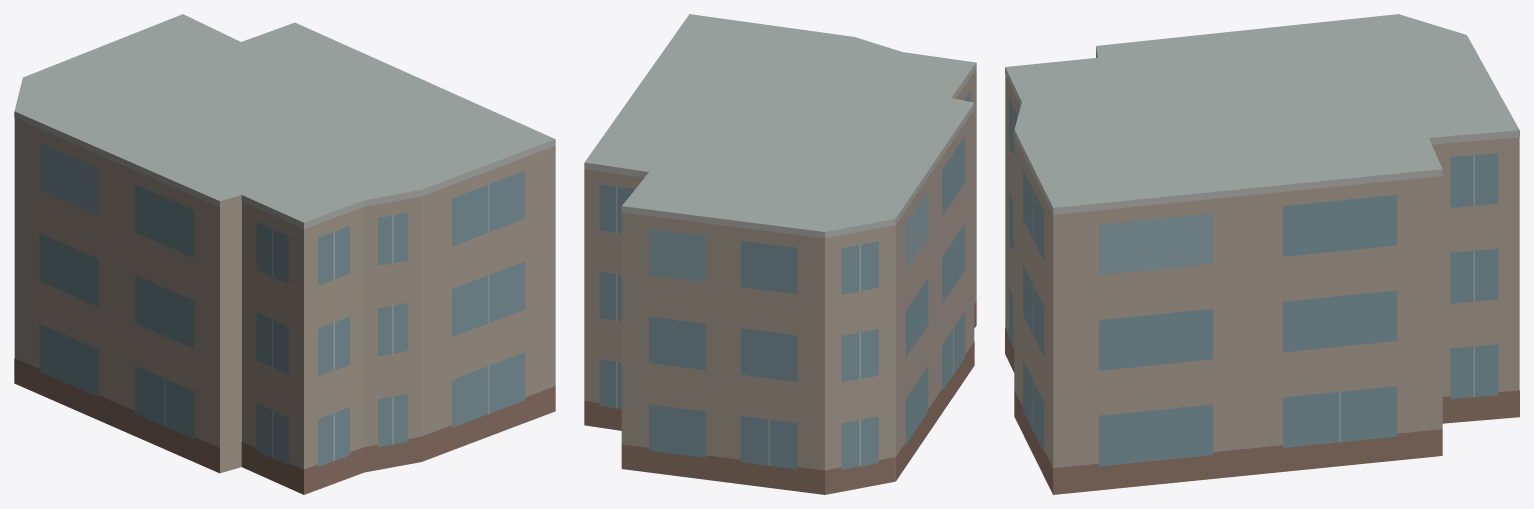
File: survey-upis-32909979.glb
The picture shows the model from 3 angles, left to right: view 1: azimuth 30°, elevation 25°; view 2: azimuth 150°, elevation 25°; view 3: azimuth 270°, elevation 25°; orthographic projection. The views are drawn at different scales.
Parts seen in each view (by area): view 1: survey-upis-32909979.tmp; view 2: survey-upis-32909979.tmp; view 3: survey-upis-32909979.tmp.
Part boxes in pixels (x1=…): survey-upis-32909979.tmp: x1=14, y1=14, x2=555, y2=494; survey-upis-32909979.tmp: x1=584, y1=14, x2=976, y2=494; survey-upis-32909979.tmp: x1=1005, y1=14, x2=1519, y2=494.
Size of the model in its own units: 14.66 by 10.1 by 16.44.
